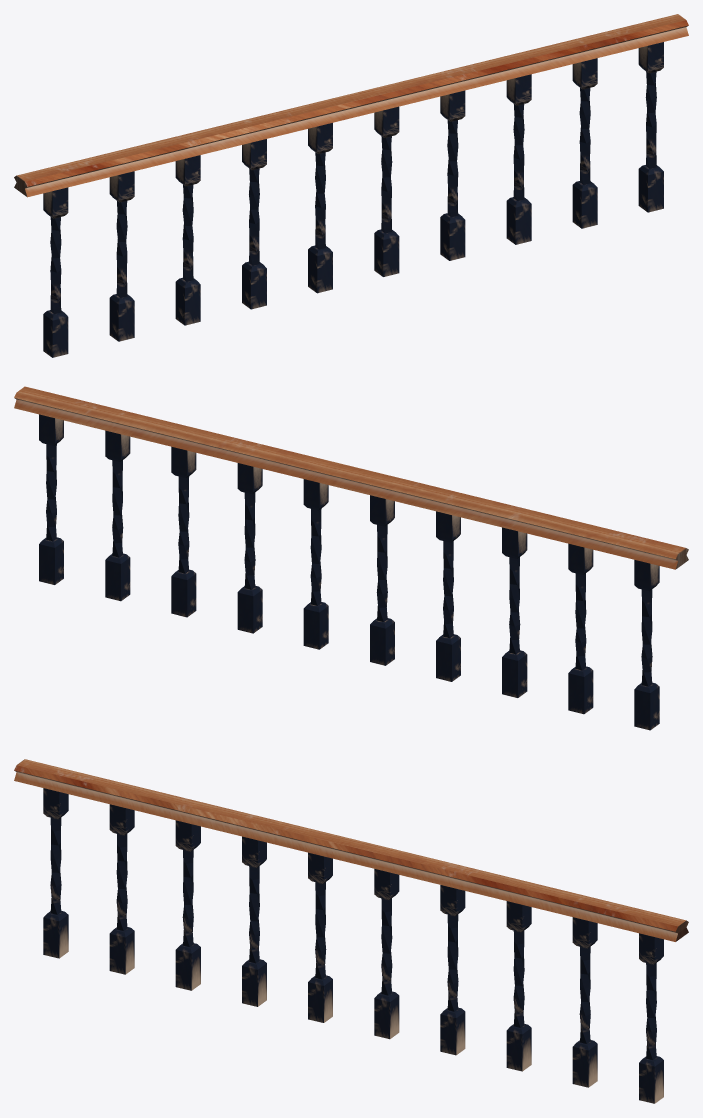
The model's file is Railing1.FBX.
The picture shows the model from 3 angles, top to bottom: view 1: azimuth 30°, elevation 25°; view 2: azimuth 150°, elevation 25°; view 3: azimuth 330°, elevation 25°; orthographic projection.
Visible parts, largest first — view 1: Railing; view 2: Railing; view 3: Railing.
Part boxes in pixels (<box>): Railing: <box>14,14,688,357</box>; Railing: <box>14,386,688,730</box>; Railing: <box>14,759,688,1103</box>.
Size of the model in its own units: 254 by 67.07 by 8.89.
